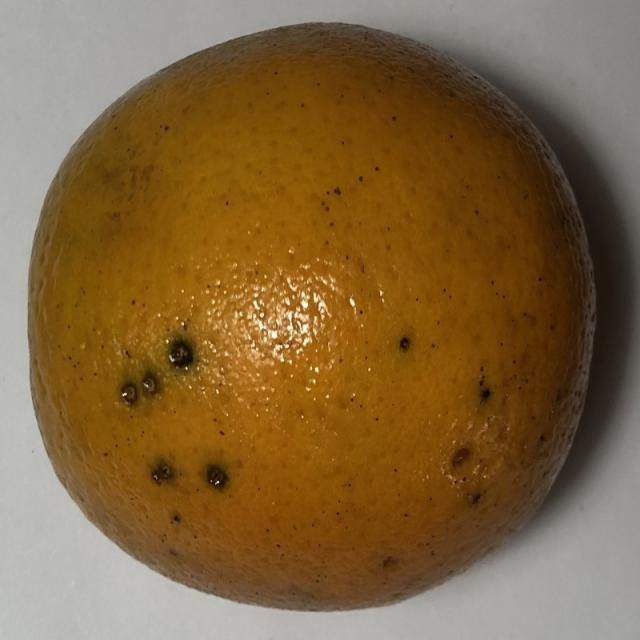blackspot: (11, 22, 622, 630)
